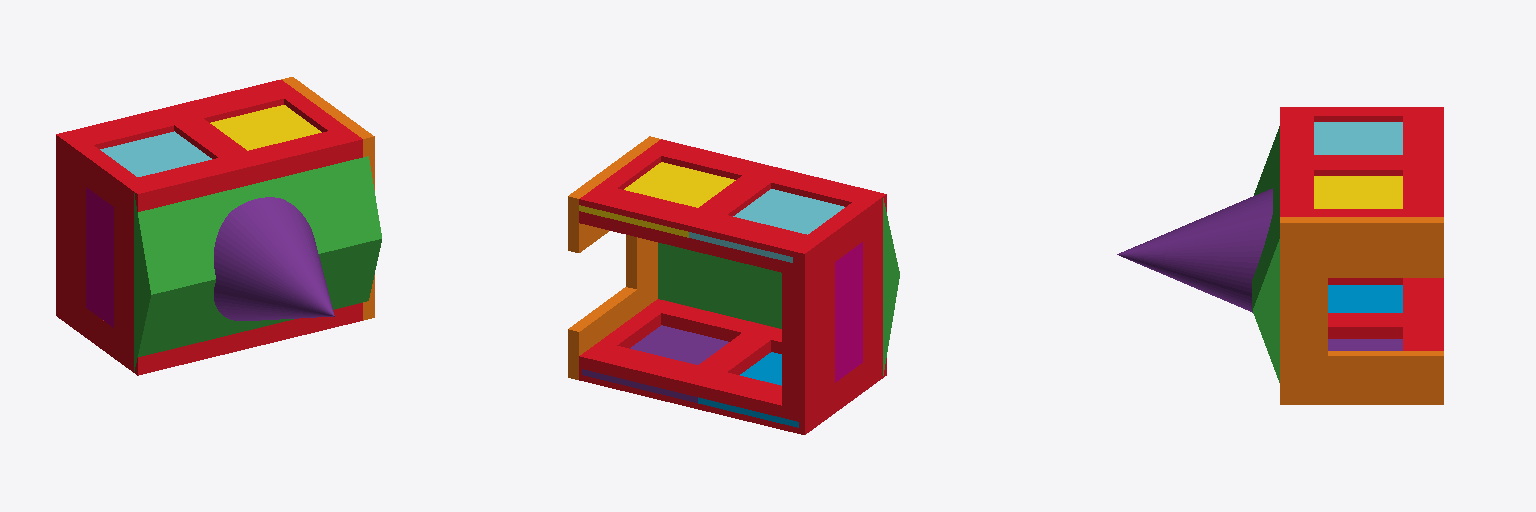
Rendered from tinker.obj.
The picture shows the model from 3 angles: view 1: azimuth 30°, elevation 25°; view 2: azimuth 150°, elevation 25°; view 3: azimuth 270°, elevation 25°; orthographic projection.
Visible parts, largest first — view 1: obj_0; view 2: obj_0; view 3: obj_0.
Part boxes in pixels (x1,y1,x2,y2): obj_0: (56,77,381,375); obj_0: (568,136,899,434); obj_0: (1117,107,1443,404).
Size of the model in its own units: 41 by 30 by 49.